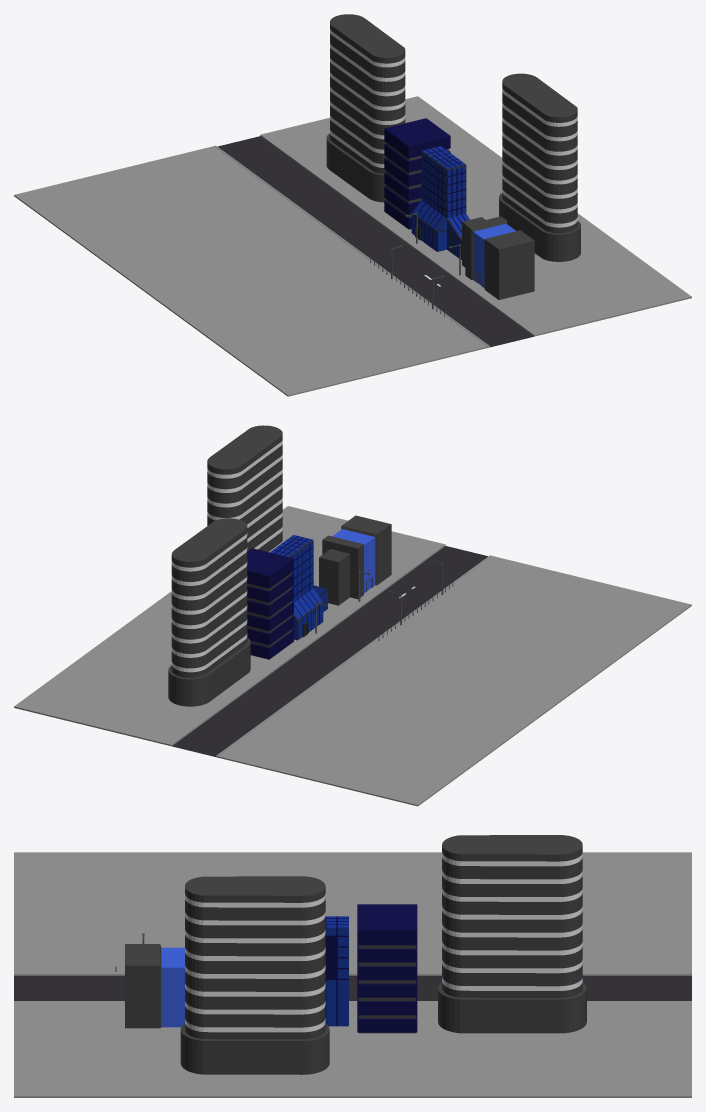
The model's file is EscenarioMenuInicial.fbx.
The picture shows the model from 3 angles, top to bottom: view 1: azimuth 30°, elevation 25°; view 2: azimuth 150°, elevation 25°; view 3: azimuth 270°, elevation 25°; orthographic projection. The views are drawn at different scales.
Parts seen in each view (by area): view 1: Plano, Cilindro.001, Cilindro.019, Cubo.001, Plano.001, Cubo; view 2: Plano, Cilindro.019, Cilindro.001, Cubo.001, Cubo, Plano.001; view 3: Plano, Cilindro.001, Cilindro.019, Cubo, Cubo.001, Plano.001.
Part boxes in pixels (left/top/right/bottom): Plano: left=14, top=96, right=691, bottom=396; Cilindro.001: left=499, top=73, right=580, bottom=261; Cilindro.019: left=326, top=14, right=405, bottom=202; Cubo.001: left=462, top=216, right=534, bottom=299; Plano.001: left=411, top=146, right=469, bottom=259; Cubo: left=384, top=118, right=450, bottom=229; Plano: left=14, top=506, right=691, bottom=806; Cilindro.019: left=168, top=518, right=250, bottom=706; Cilindro.001: left=207, top=425, right=282, bottom=552; Cubo.001: left=319, top=515, right=391, bottom=605; Cubo: left=247, top=548, right=293, bottom=659; Plano.001: left=270, top=535, right=327, bottom=640; Plano: left=14, top=852, right=691, bottom=1097; Cilindro.001: left=180, top=876, right=329, bottom=1074; Cilindro.019: left=438, top=835, right=586, bottom=1033; Cubo: left=357, top=904, right=417, bottom=1033; Cubo.001: left=125, top=944, right=184, bottom=1028; Plano.001: left=325, top=916, right=348, bottom=1026.
Size of the model in its own units: 11003 by 4111 by 12926.
